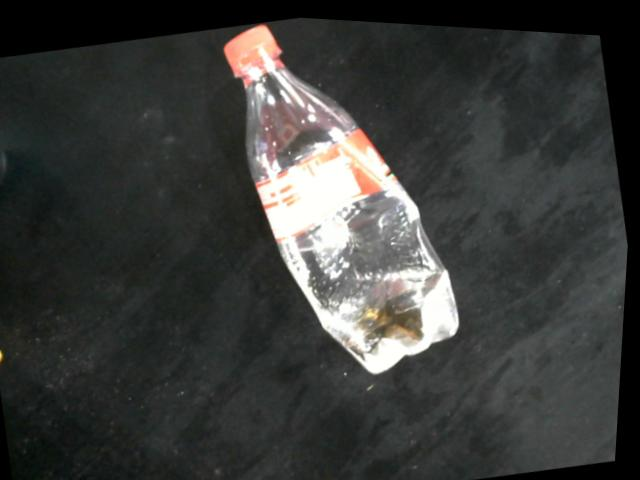bottle: (223, 20, 464, 370)
